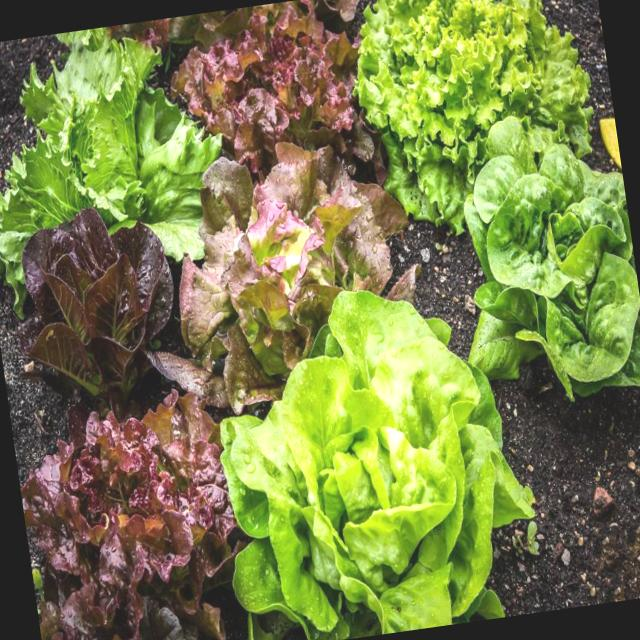lista_para_cosechar: (222, 292, 533, 640), (355, 0, 592, 232)
